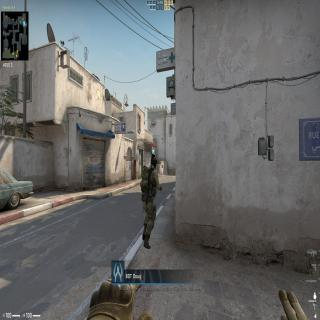CT-Head: (150, 154, 158, 168)
